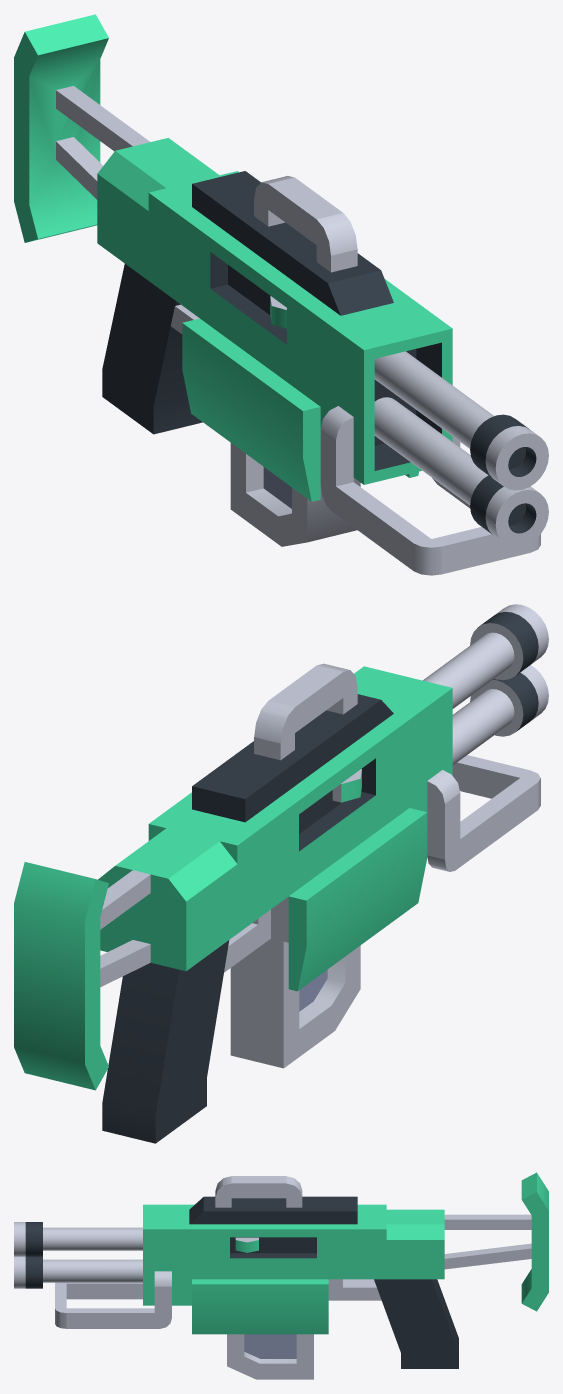
The model's file is blasterP.glb.
3 views of the same model, one above another, from view 1: azimuth 30°, elevation 25°; view 2: azimuth 150°, elevation 25°; view 3: azimuth 270°, elevation 25° (orthographic). The views are drawn at different scales.
Parts seen in each view (by area): view 1: blasterP; view 2: blasterP; view 3: blasterP.
Part boxes in pixels (x1,y1,x2,y2): blasterP: (14,14,548,575); blasterP: (14,604,548,1143); blasterP: (14,1172,548,1379).
Size of the model in its own units: 0.14 by 0.3659 by 0.9222.
